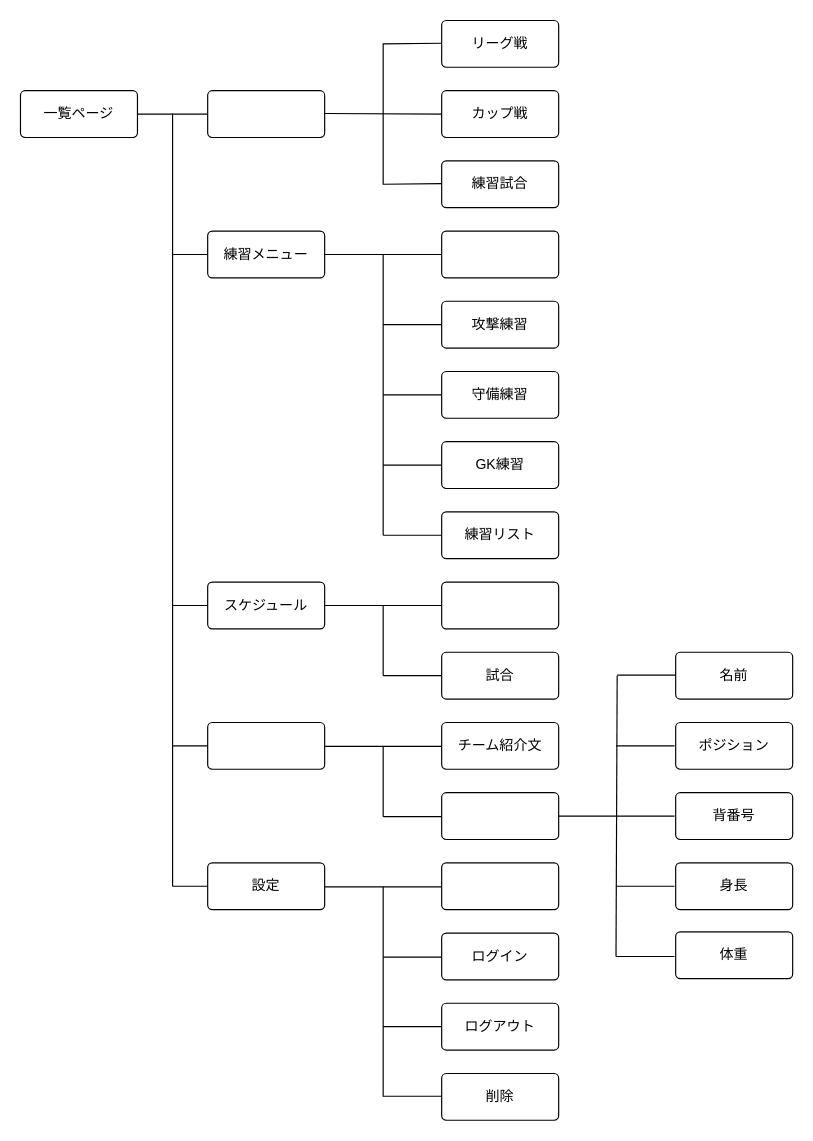
This 813x1141 diagram has some shape labels left out. The centre of each missing label's shape, as x and y in pixels:
"チーム紹介" belongs at (266,745).
"個人名" belongs at (500,815).
"全体練習" belongs at (500,254).
"新規登録" belongs at (500,886).
"練習" belongs at (500,605).
"試合結果" belongs at (266,113).
